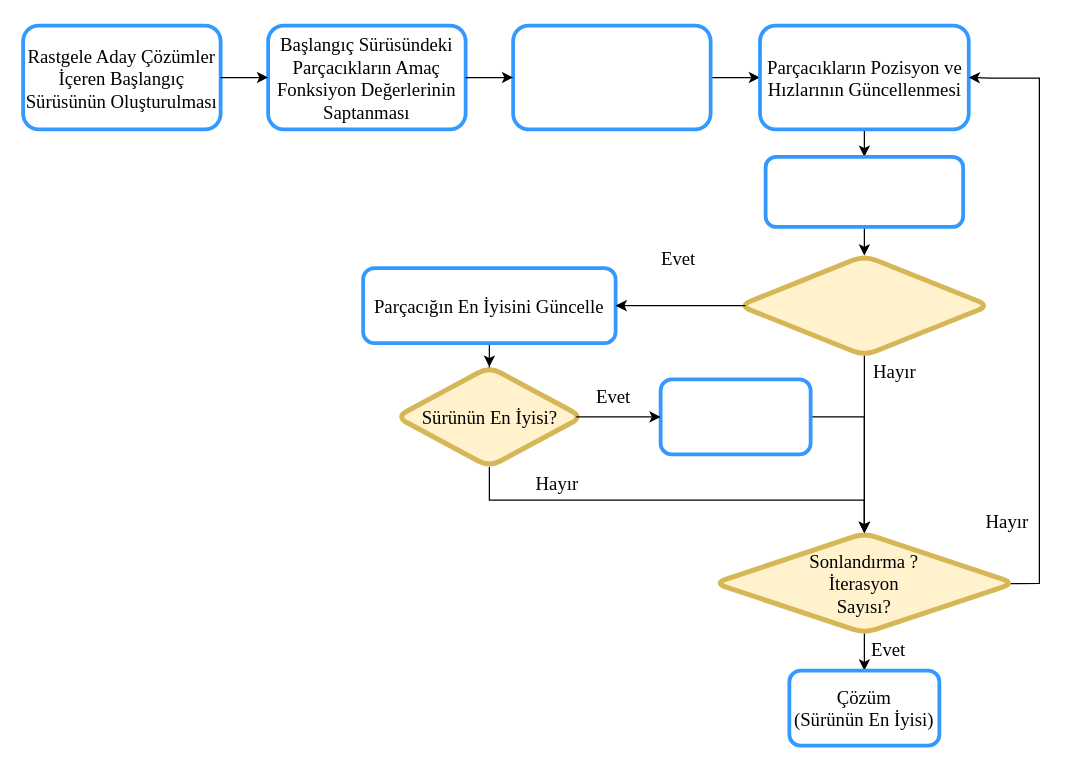
The diagram is 1071 pixels wide and 769 high, and some of its shapes have lost their labels. The shapes that lost their labels are listed below. From the top down, each one's centre as x and y in pixels, then its label:
pixel 611 77: Her Parçacığın ve Sürünün En İyi Çözümlerinin Belirlenmesi ( Pi, Pg )
pixel 863 191: Parçacıkların Amaç Fonksiyon Değerlerinin Saptanması
pixel 863 305: Parçacığın En İyisi?
pixel 735 416: Sürünün En İysini Güncelle
